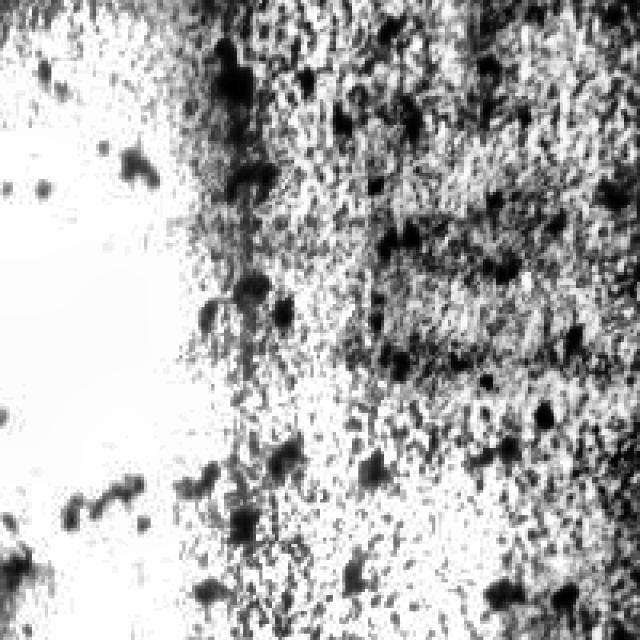Rolled_in_Scale: (13, 156, 496, 612), (294, 13, 618, 608)
